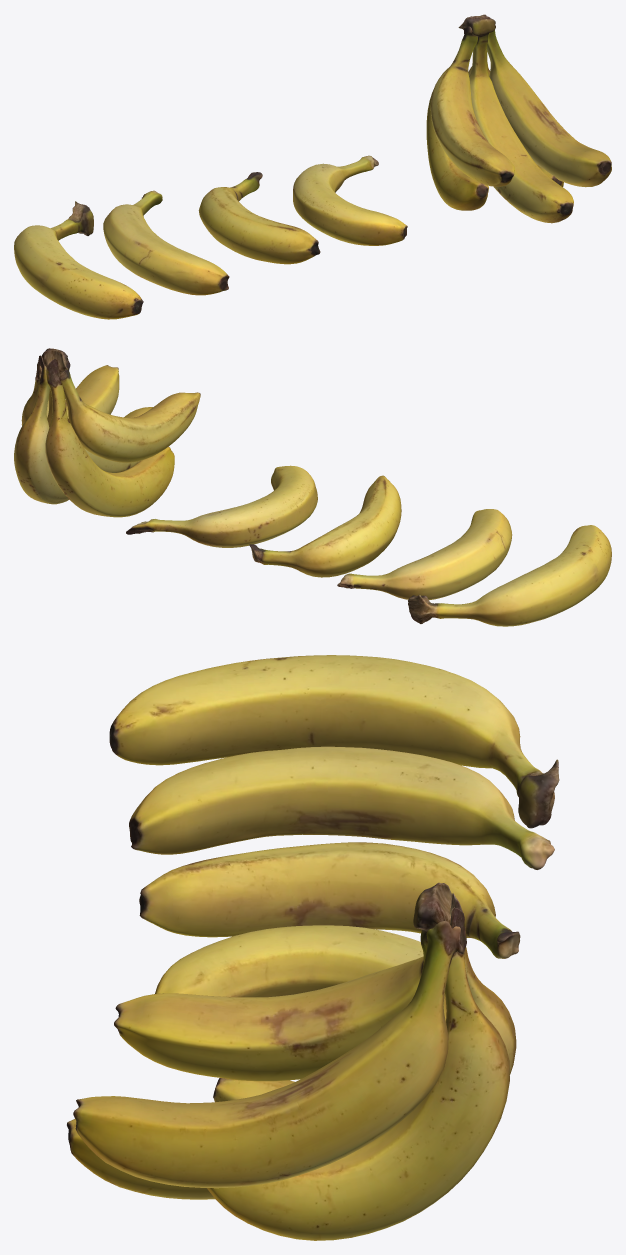
File: bananas.glb
The picture shows the model from 3 angles, top to bottom: view 1: azimuth 30°, elevation 25°; view 2: azimuth 150°, elevation 25°; view 3: azimuth 270°, elevation 25°; orthographic projection. The views are drawn at different scales.
Visible parts, largest first — view 1: bananas_bunch; view 2: bananas_bunch; view 3: bananas_bunch.
Boxes of the visible parts, x1=… form: bananas_bunch: x1=14, y1=14, x2=611, y2=319; bananas_bunch: x1=14, y1=348, x2=611, y2=626; bananas_bunch: x1=67, y1=655, x2=559, y2=1240.
Bounding box in the file's own units: 0.6 × 0.1787 × 0.2441.
1 material, 1 textured.
